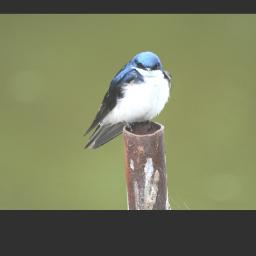Swallow: (81, 50, 173, 150)
